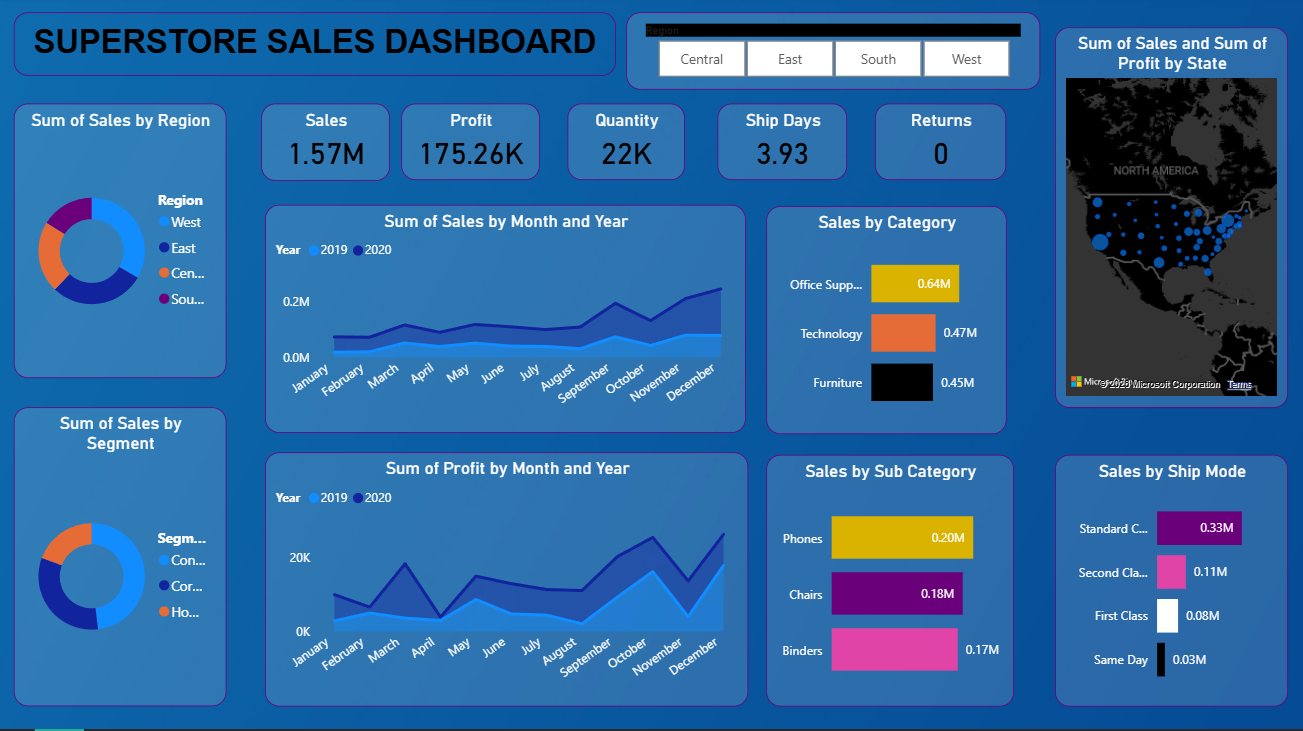

This screenshot's page, from the dashboard's own definition file:
{"tool":"powerbi","page":{"name":"Page 1","canvas":[1280,720],"ordinal":0},"visuals":[{"type":"clusteredBarChart","title":" Sales by Category","fields":{"Category":["SuperStore_Sales_Dataset.Category"],"Y":["Sum(SuperStore_Sales_Dataset.Sales)"]},"box":[752,205.8,236,223.7],"z":0},{"type":"clusteredBarChart","title":" Sales by Sub Category","fields":{"Category":["SuperStore_Sales_Dataset.Sub-Category"],"Y":["Sum(SuperStore_Sales_Dataset.Sales)"]},"box":[752,450.1,242.9,247],"z":1000},{"type":"clusteredBarChart","title":" Sales by Ship Mode","fields":{"Category":["SuperStore_Sales_Dataset.Ship Mode"],"Y":["Sum(SuperStore_Sales_Dataset.Sales)"]},"box":[1036,450.1,229.2,247],"z":2000},{"type":"stackedAreaChart","fields":{"Y":["Sum(SuperStore_Sales_Dataset.Sales)"],"Category":["SuperStore_Sales_Dataset.Order Date.Variation.Date Hierarchy.Month","SuperStore_Sales_Dataset.Order Date.Variation.Date Hierarchy.Day"],"Series":["SuperStore_Sales_Dataset.Order Date.Variation.Date Hierarchy.Year"]},"box":[260.7,204.5,472,223.7],"z":3000},{"type":"stackedAreaChart","fields":{"Category":["SuperStore_Sales_Dataset.Order Date.Variation.Date Hierarchy.Month","SuperStore_Sales_Dataset.Order Date.Variation.Date Hierarchy.Day"],"Series":["SuperStore_Sales_Dataset.Order Date.Variation.Date Hierarchy.Year"],"Y":["Sum(SuperStore_Sales_Dataset.Profit)"]},"box":[260.7,447.3,474.8,249.7],"z":4000},{"type":"map","fields":{"Category":["SuperStore_Sales_Dataset.State"],"Size":["Sum(SuperStore_Sales_Dataset.Sales)"]},"box":[1036,30.2,229.2,373.2],"z":5000},{"type":"donutChart","fields":{"Category":["SuperStore_Sales_Dataset.Segment"],"Y":["Sum(SuperStore_Sales_Dataset.Sales)"]},"box":[13.5,403.7,208.6,293.3],"z":6000},{"type":"donutChart","fields":{"Category":["SuperStore_Sales_Dataset.Region"],"Y":["Sum(SuperStore_Sales_Dataset.Sales)"]},"box":[13.5,105.5,208.6,269.9],"z":7000},{"type":"slicer","fields":{"Values":["SuperStore_Sales_Dataset.Region"]},"box":[614.7,16,406.1,76.1],"z":8000},{"type":"textbox","box":[13.5,16,591.4,62.6],"z":9000},{"type":"card","title":"Sales","fields":{"Values":["Sum(SuperStore_Sales_Dataset.Sales)"]},"box":[256.4,105.5,126.4,76.1],"z":10000},{"type":"card","title":"Profit","fields":{"Values":["Sum(SuperStore_Sales_Dataset.Profit)"]},"box":[393.8,105.7,135.8,75.5],"z":11000},{"type":"card","title":"Quantity","fields":{"Values":["Sum(SuperStore_Sales_Dataset.Quantity)"]},"box":[556.5,105.5,115.1,75.4],"z":12000},{"type":"card","title":"Ship Days","fields":{"Values":["Avg(SuperStore_Sales_Dataset.Avgdelievery)"]},"box":[704.6,105.5,127.5,75.4],"z":13000},{"type":"card","title":"Returns","fields":{"Values":["Min(SuperStore_Sales_Dataset.Returns)"]},"box":[859.5,105.5,128.9,75.4],"z":13001}]}

Visuals, with their boxes in screenshot pixels (x1, y1, x2, y2), scaled from the page's 1280x720 canvas onto the 1303x731 screenshot:
" Sales by Category" clusteredBarChart: Rect(766, 209, 1006, 436)
" Sales by Sub Category" clusteredBarChart: Rect(766, 457, 1013, 708)
" Sales by Ship Mode" clusteredBarChart: Rect(1055, 457, 1288, 708)
stackedAreaChart - Sum(SuperStore_Sales_Dataset.Sales) x SuperStore_Sales_Dataset.Order Date.Variation.Date Hierarchy.Month: Rect(265, 208, 746, 435)
stackedAreaChart - SuperStore_Sales_Dataset.Order Date.Variation.Date Hierarchy.Month x SuperStore_Sales_Dataset.Order Date.Variation.Date Hierarchy.Day: Rect(265, 454, 749, 708)
map - SuperStore_Sales_Dataset.State x Sum(SuperStore_Sales_Dataset.Sales): Rect(1055, 31, 1288, 410)
donutChart - SuperStore_Sales_Dataset.Segment x Sum(SuperStore_Sales_Dataset.Sales): Rect(14, 410, 226, 708)
donutChart - SuperStore_Sales_Dataset.Region x Sum(SuperStore_Sales_Dataset.Sales): Rect(14, 107, 226, 381)
slicer - SuperStore_Sales_Dataset.Region: Rect(626, 16, 1039, 94)
textbox: Rect(14, 16, 616, 80)
"Sales" card: Rect(261, 107, 390, 184)
"Profit" card: Rect(401, 107, 539, 184)
"Quantity" card: Rect(566, 107, 684, 184)
"Ship Days" card: Rect(717, 107, 847, 184)
"Returns" card: Rect(875, 107, 1006, 184)
